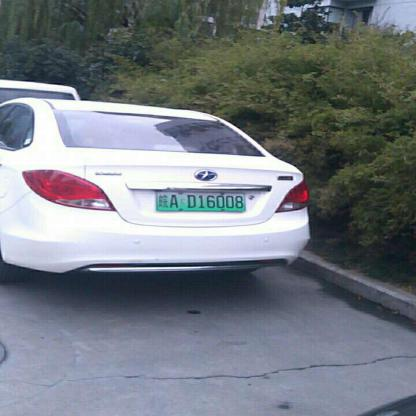lp: (156, 190, 246, 211)
